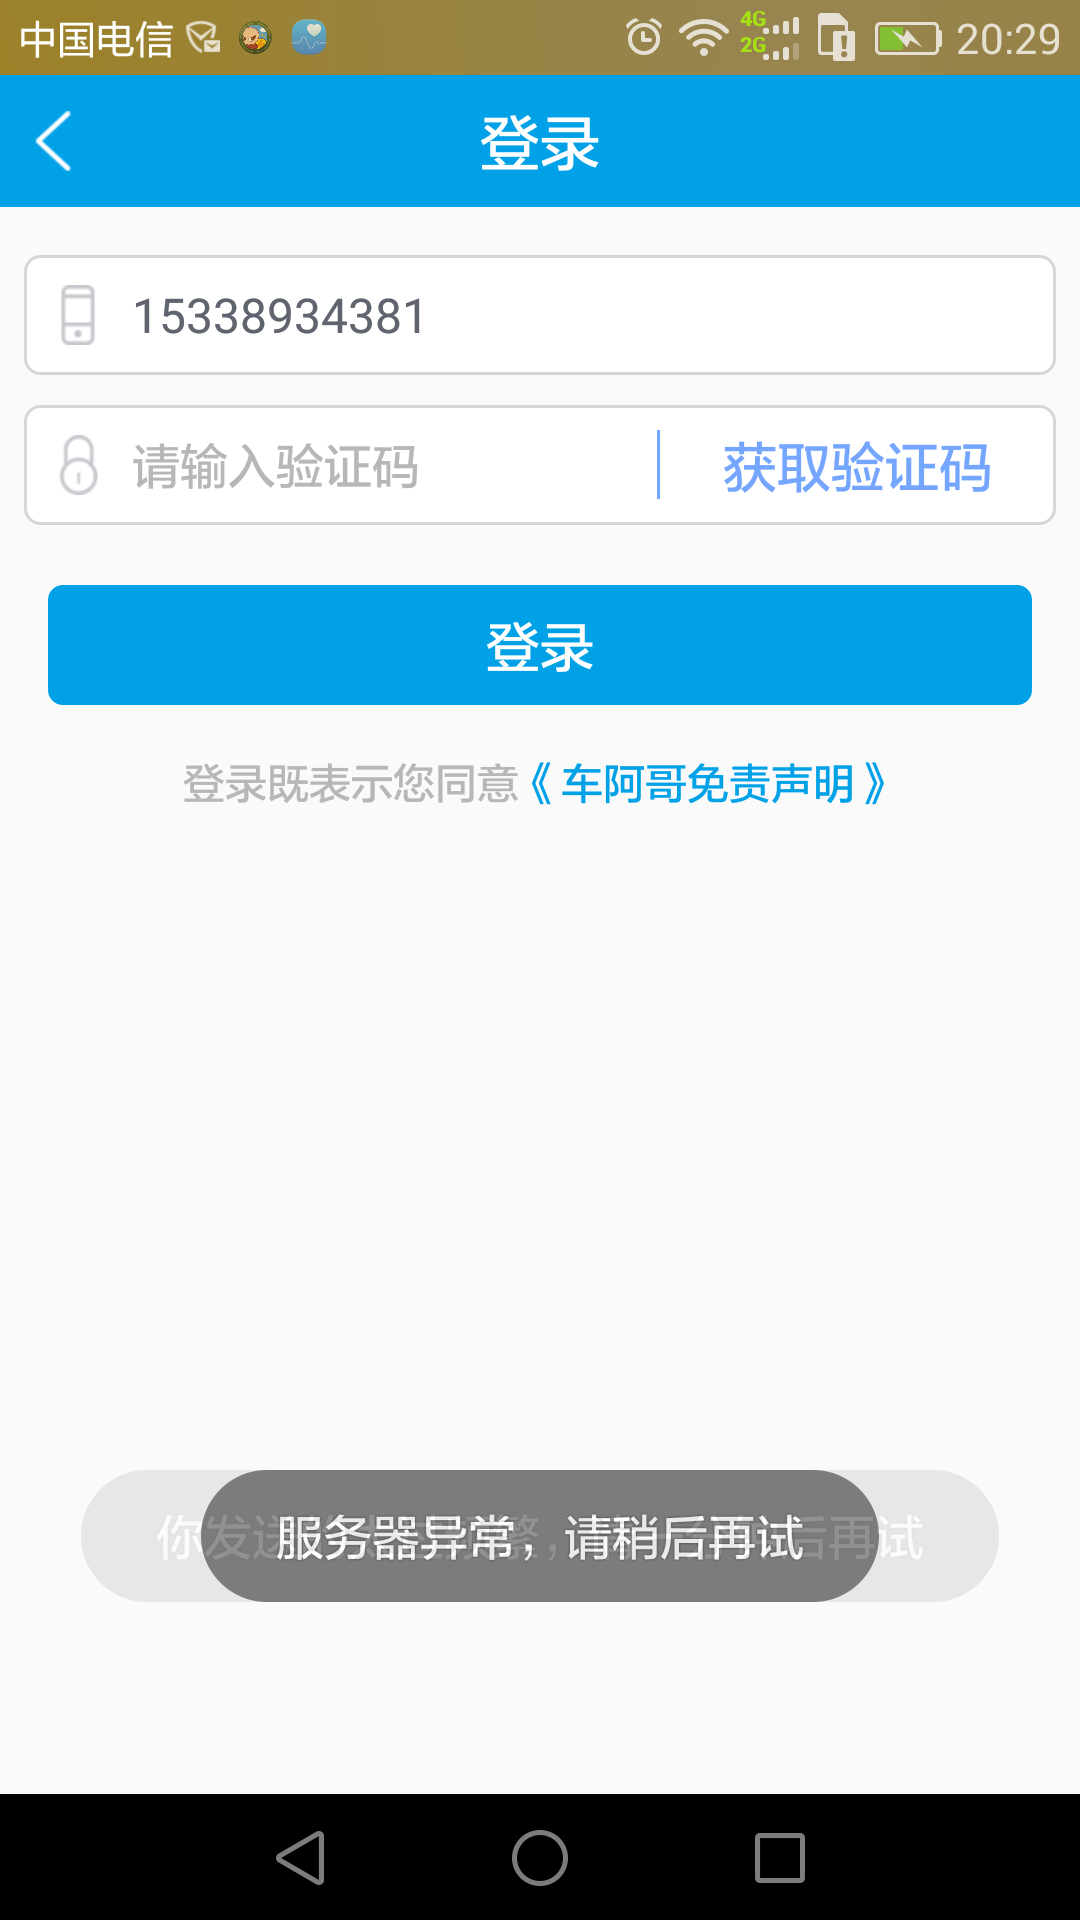alert: (200, 1461, 882, 1606)
textview: (16, 247, 1063, 535), (153, 746, 905, 823)
